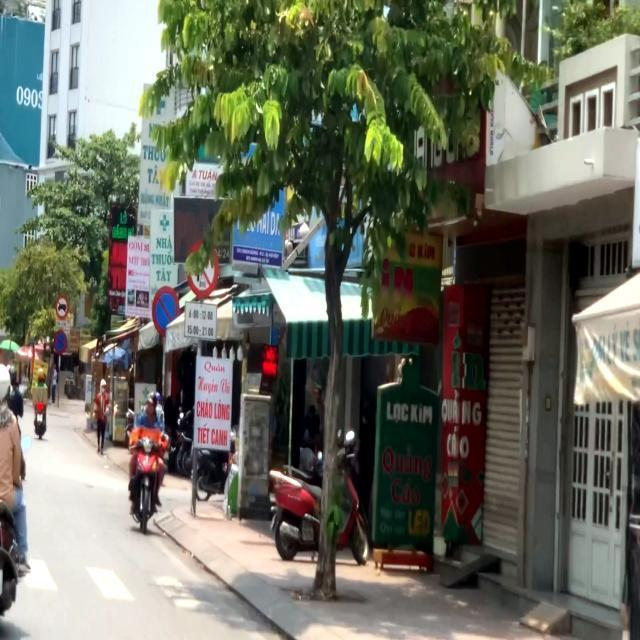131a-cam-do-xe: (152, 285, 182, 335)
